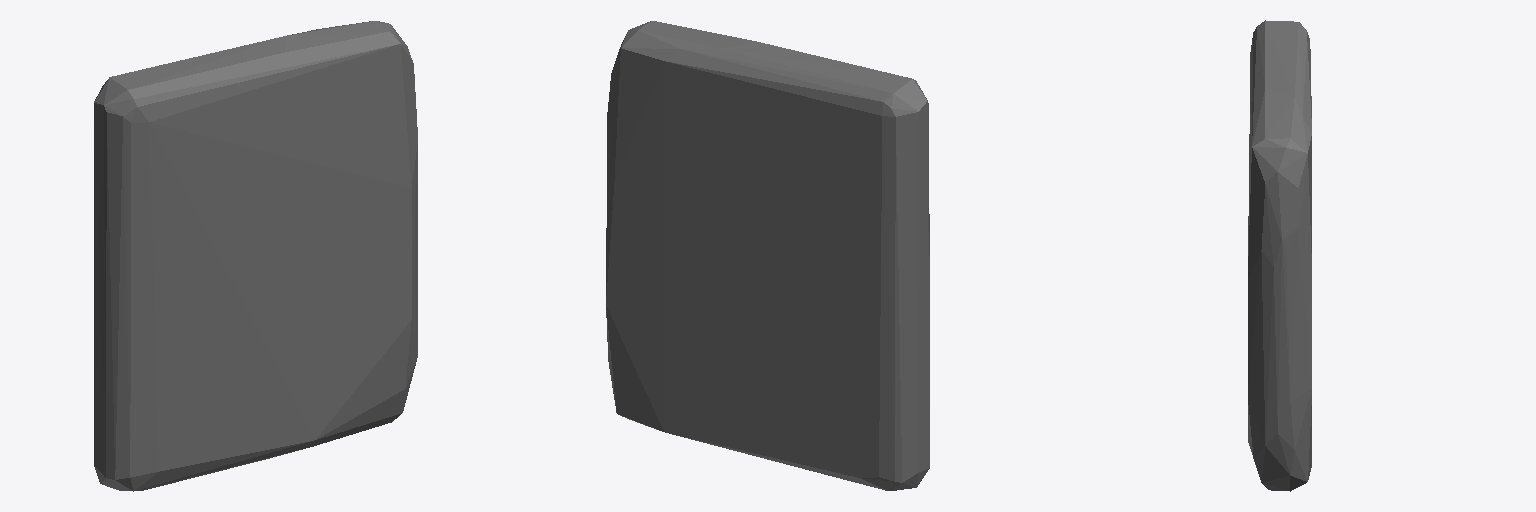
URDF robot description (book_001):
<?xml version="1.0" ?>
<robot name="book_001">
  <material name="color">
    <color rgba=".5 .5 .5 1"/>
  </material>

  <link name="base_link">
    <contact>
      <lateral_friction value="1.0"/>
      <rolling_friction value="0.001"/>
      <spinning_friction value="0.001"/>
      <inertia_scaling value="1.0"/>
    </contact>
    <inertial>
      <origin rpy="0 0 0" xyz="0.00681253 -9.39617e-06 -0.000161784"/>
       <mass value="0.1"/>
       <inertia ixx="1" ixy="0" ixz="0" iyy="1" iyz="0" izz="1"/>
    </inertial>

    <visual>
      <origin rpy="0 0 0" xyz="0 0 0"/>
      <geometry>
        <mesh filename="book_001_vhacd_0_of_1.obj" scale="1 1 1"/>
      </geometry>
      <material name="color"/>
    </visual>

    <collision>
      <origin rpy="0 0 0" xyz="0 0 0"/>
      <geometry>
        <mesh filename="book_001_vhacd_0_of_1.obj" scale="1 1 1"/>
      </geometry>
    </collision>

  </link>
</robot>

--- Facts derived from the render (not from the file) ---
Views: 3 orthographic renders of the robot side by side, from view 1: azimuth 30°, elevation 25°; view 2: azimuth 150°, elevation 25°; view 3: azimuth 270°, elevation 25°.
Robot: book_001 — 1 links, 0 joints (none); root link base_link; default pose: all joints at 0.
Links seen in each view (by area): view 1: base_link; view 2: base_link; view 3: base_link.
Link boxes in pixels (bbox=[...]): base_link: bbox=[94, 21, 417, 491]; base_link: bbox=[606, 21, 929, 490]; base_link: bbox=[1248, 20, 1311, 491].
Size in the robot's own frame: 0.1811 by 0.0363 by 0.2221 metres.
1 mesh visuals loaded from 1 distinct referenced files (1 OBJ).